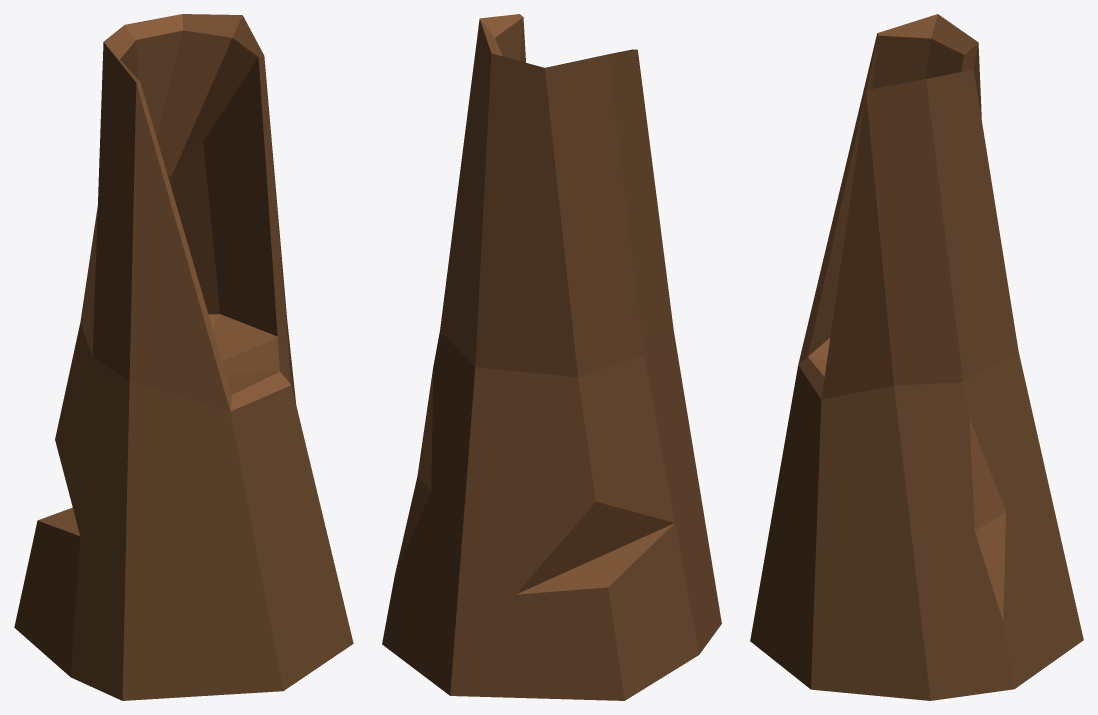
Rendered from Tree_Trunk_1_Light_Brown.fbx.
3 renders of one model, left to right at view 1: azimuth 30°, elevation 25°; view 2: azimuth 150°, elevation 25°; view 3: azimuth 270°, elevation 25°, orthographic. The views are drawn at different scales.
Visible parts, largest first — view 1: Tree_Trunk_1_Light_Brown; view 2: Tree_Trunk_1_Light_Brown; view 3: Tree_Trunk_1_Light_Brown.
Boxes of the visible parts, <box> form: Tree_Trunk_1_Light_Brown: <box>14,14,353,700</box>; Tree_Trunk_1_Light_Brown: <box>382,14,721,700</box>; Tree_Trunk_1_Light_Brown: <box>750,14,1083,700</box>.
Size of the model in its own units: 94.74 by 201 by 103.
